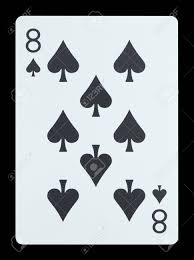eight of spades: (15, 16, 177, 241)
